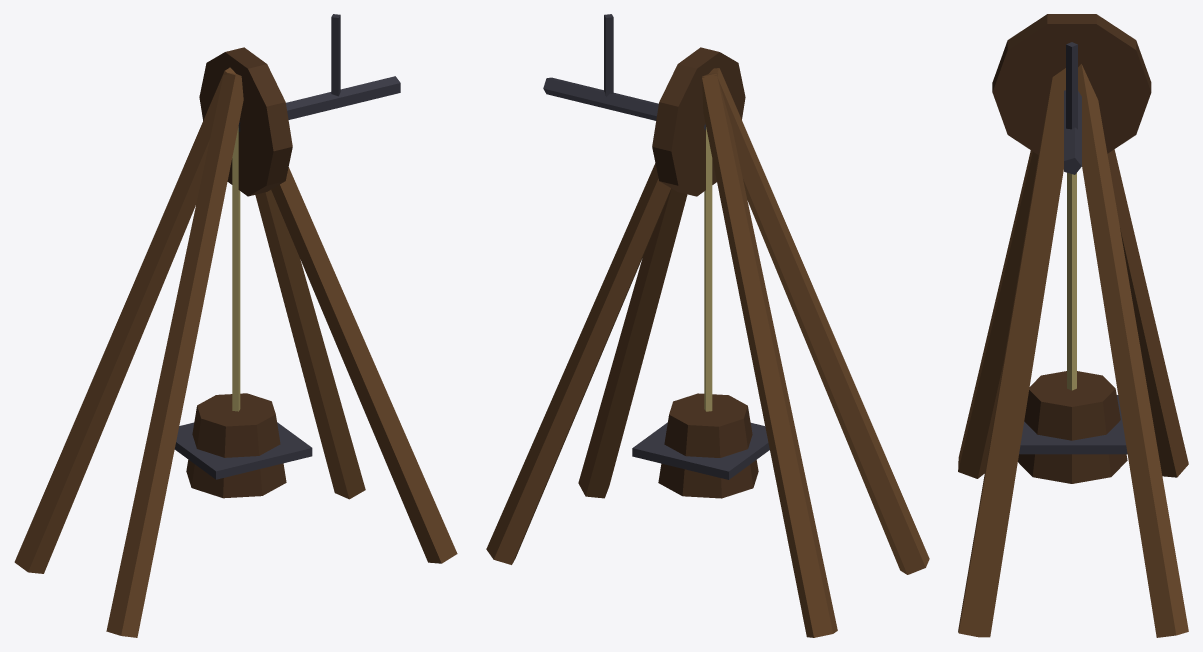
Rendered from soegol_windlass.glb.
3 views of the same model, side by side, from view 1: azimuth 30°, elevation 25°; view 2: azimuth 150°, elevation 25°; view 3: azimuth 270°, elevation 25° (orthographic). The views are drawn at different scales.
Visible parts, largest first — view 1: soegol_windlass; view 2: soegol_windlass; view 3: soegol_windlass.
Boxes of the visible parts, bbox=[...] form: soegol_windlass: bbox=[14, 14, 457, 637]; soegol_windlass: bbox=[486, 14, 929, 637]; soegol_windlass: bbox=[958, 14, 1188, 637].
Size of the model in its own units: 2.16 by 3.13 by 1.16.
